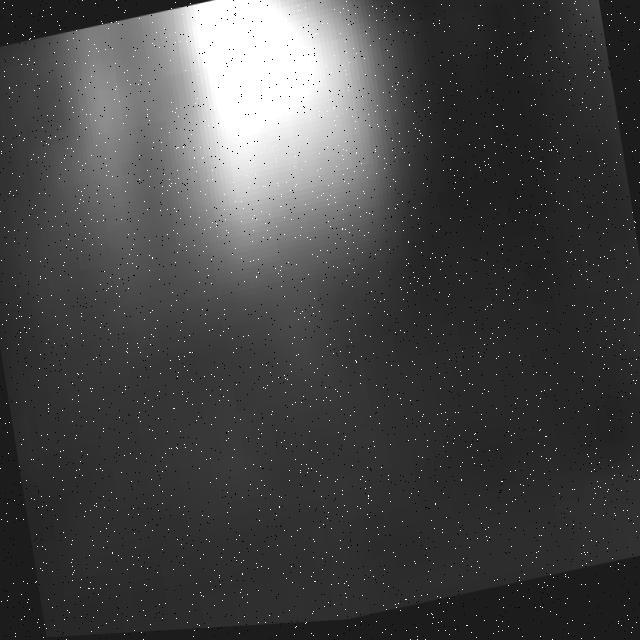person: (157, 1, 460, 423)
